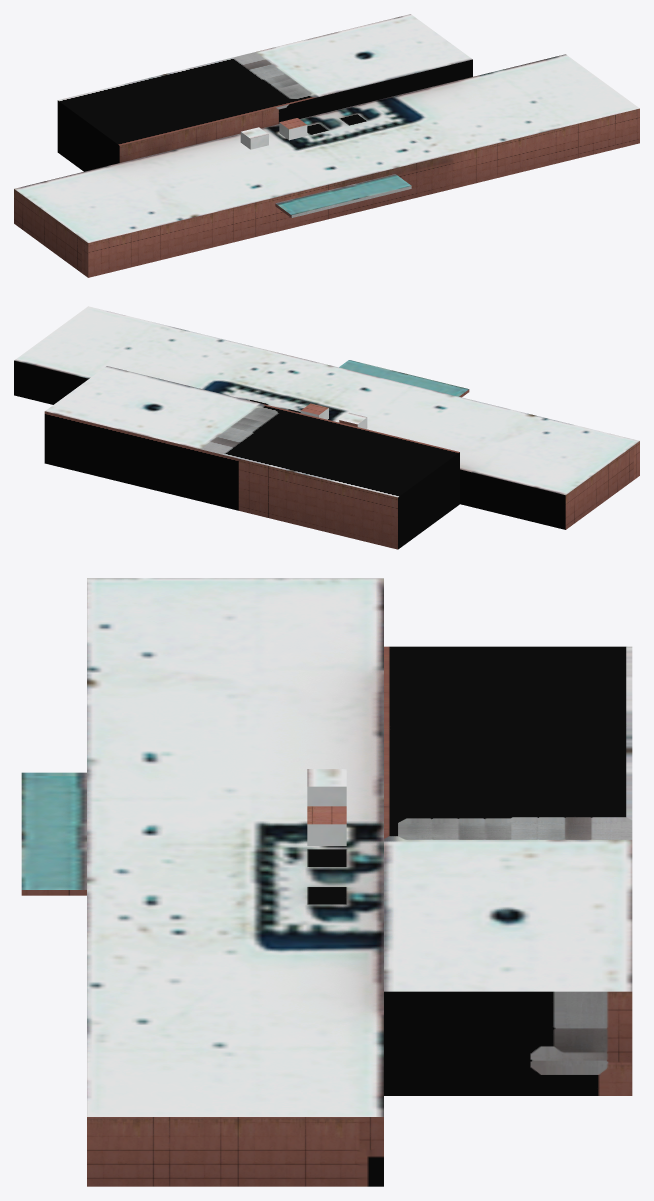
The model's file is SkyTrainDepot.exact.glb.
3 renders of one model, top to bottom at view 1: azimuth 30°, elevation 25°; view 2: azimuth 150°, elevation 25°; view 3: azimuth 270°, elevation 25°, orthographic. The views are drawn at different scales.
Visible parts, largest first — view 1: SkyTrainDepot; view 2: SkyTrainDepot; view 3: SkyTrainDepot.
Boxes of the visible parts, bbox=[...] form: SkyTrainDepot: bbox=[14, 14, 639, 277]; SkyTrainDepot: bbox=[14, 306, 639, 549]; SkyTrainDepot: bbox=[21, 578, 632, 1186].
Size of the model in its own units: 99.63 by 9 by 47.72.
1 material, 1 textured.
